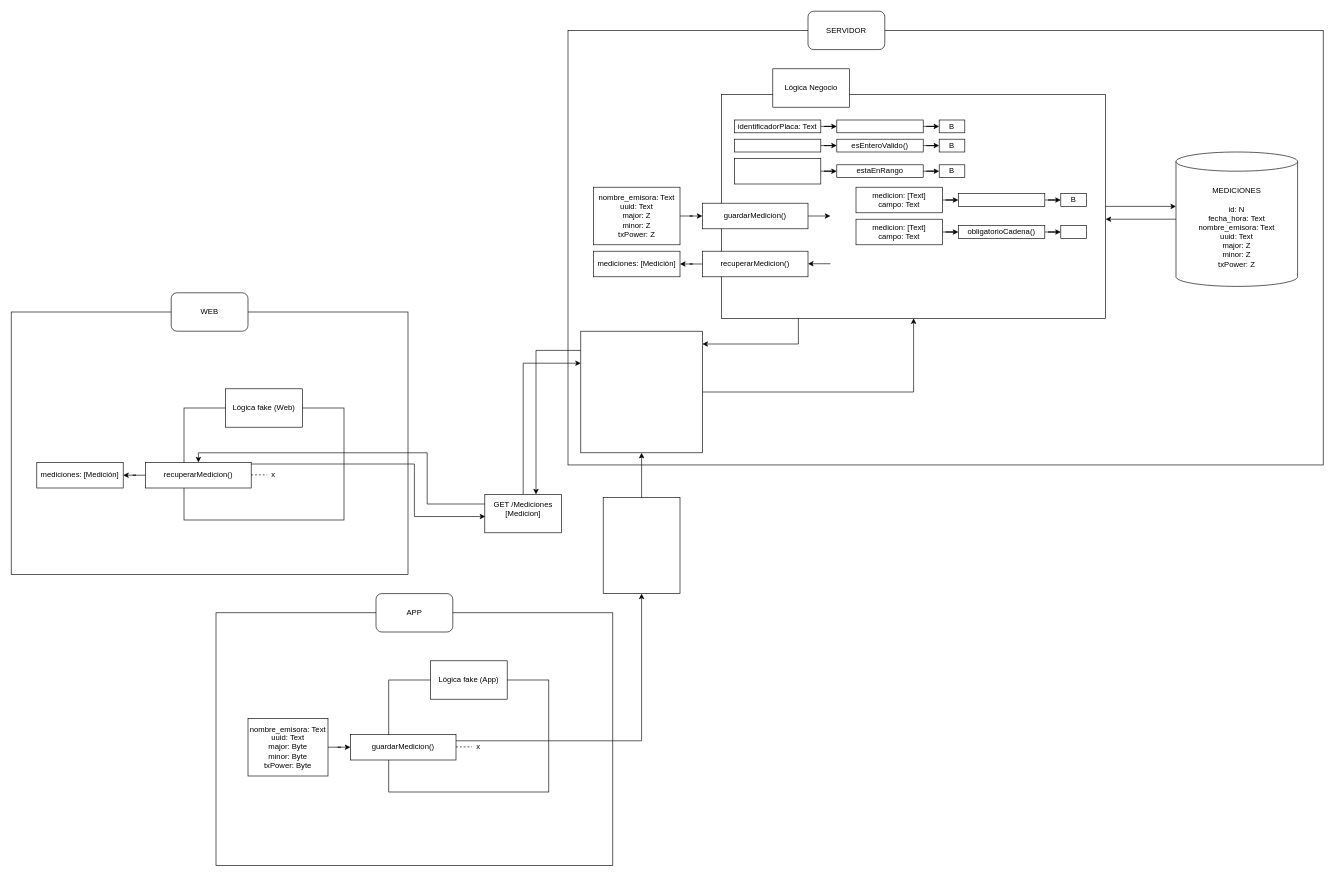
Image size: 1334x877. Some labels were removed from this diagram. The centre of each missing label's shape, as x and y in pixels:
"leerUltimaMedicion()" belongs at [879,126].
"opcionalCadena()" belongs at [1001,199].
"POST /Mediciones nombre_emisora:Text uuid: Text major: Z minor: Z txPower: Z" belongs at [641,545].
"SERVIDOR REST" belongs at [641,392].
"Text" belongs at [1073,231].
"valor" belongs at [777,145].
"valor: Z rango: []" belongs at [777,171].
